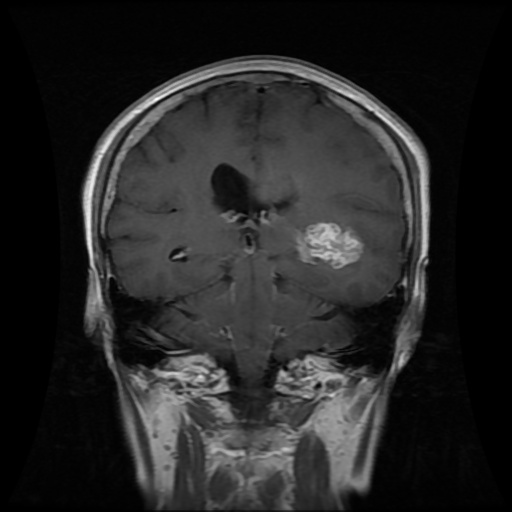glioma: (295, 223, 366, 267)
